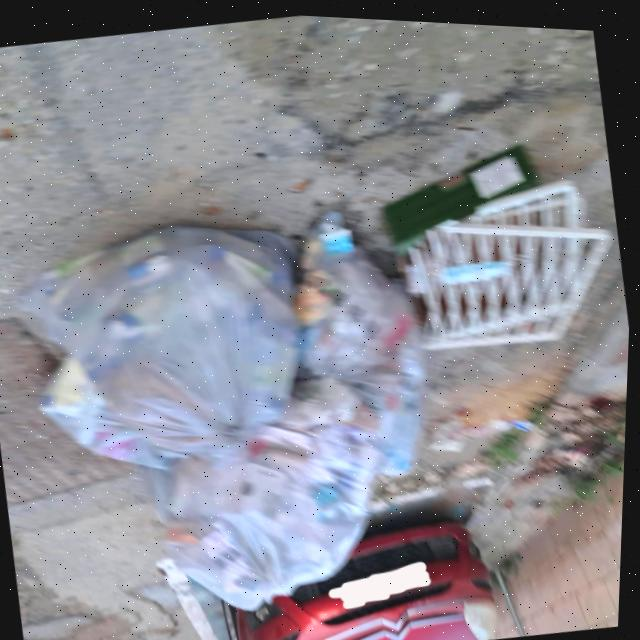Recycled Waste -Grey or Green Bag-: (7, 198, 330, 514), (126, 354, 410, 630), (280, 191, 432, 388), (327, 361, 435, 484)
